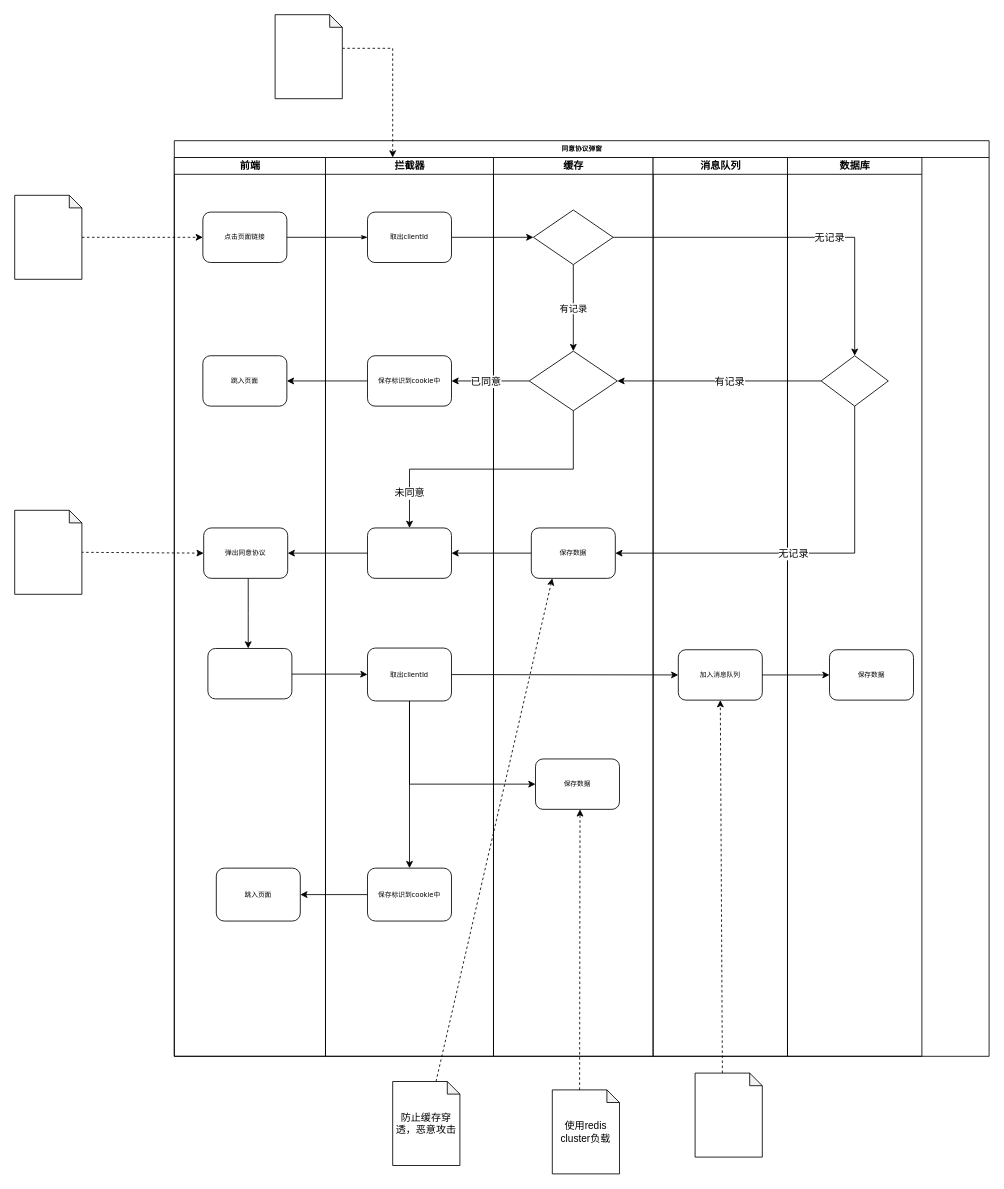
The diagram is 1004 pixels wide and 1189 high, and some of its shapes have lost their labels. Each missing label, with the centre of its shape:
使用消息队列削峰，防止大量写库操作: pixel 728 1114
判断用户是否同意协议，同意后才能进入相关页面: pixel 308 56
同意协议接口: pixel 48 551
是否同意协议接口: pixel 48 236
是否同意的状态: pixel 572 380
查询数据库: pixel 854 380
查询缓存: pixel 573 237
点击同意: pixel 249 673
返回未同意标识: pixel 409 552
